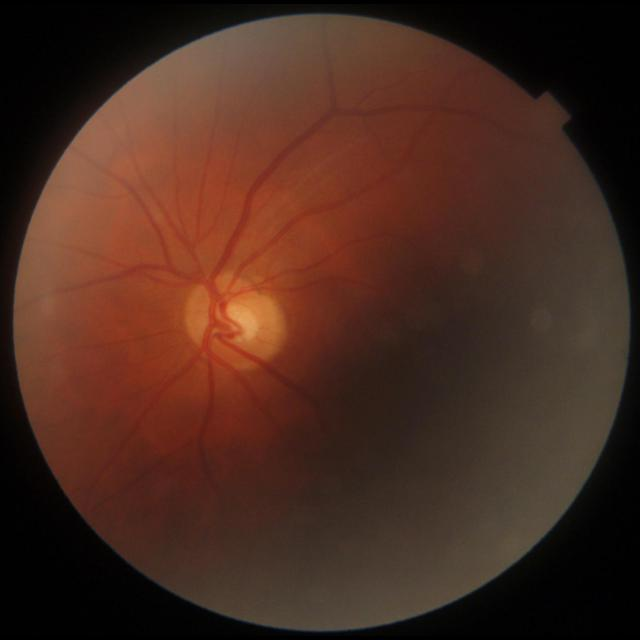OC: (211, 303, 258, 343)
OD: (184, 276, 287, 371)
